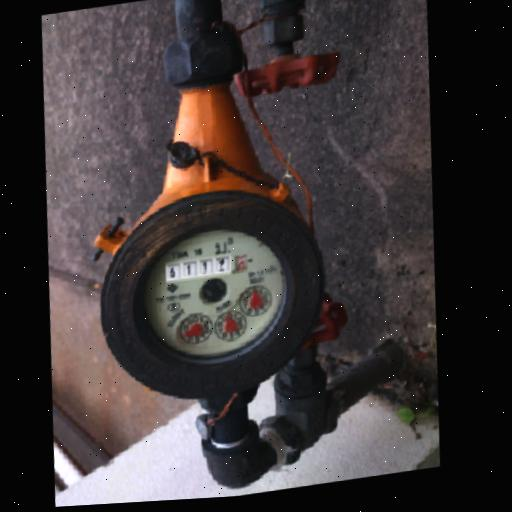1: (183, 261, 197, 277), (199, 259, 213, 275)
4: (235, 254, 247, 271)
6: (167, 264, 181, 280)
9: (217, 256, 230, 272)
border_water_meter_number: (164, 252, 249, 283)
